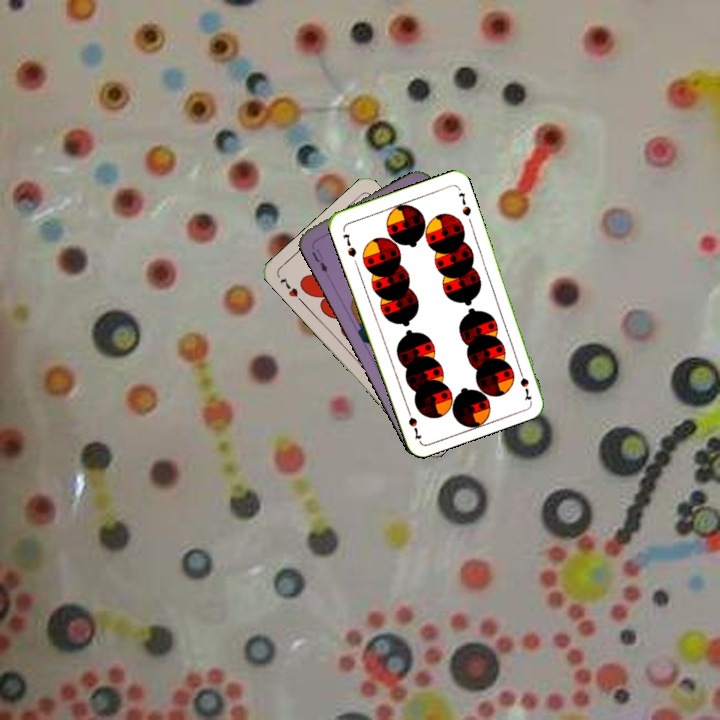EU: (308, 245, 330, 276)
H7: (276, 273, 306, 305)
S7: (514, 363, 534, 403), (339, 230, 359, 260)
